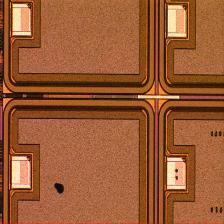PARTICLE: (52, 181, 68, 197)
